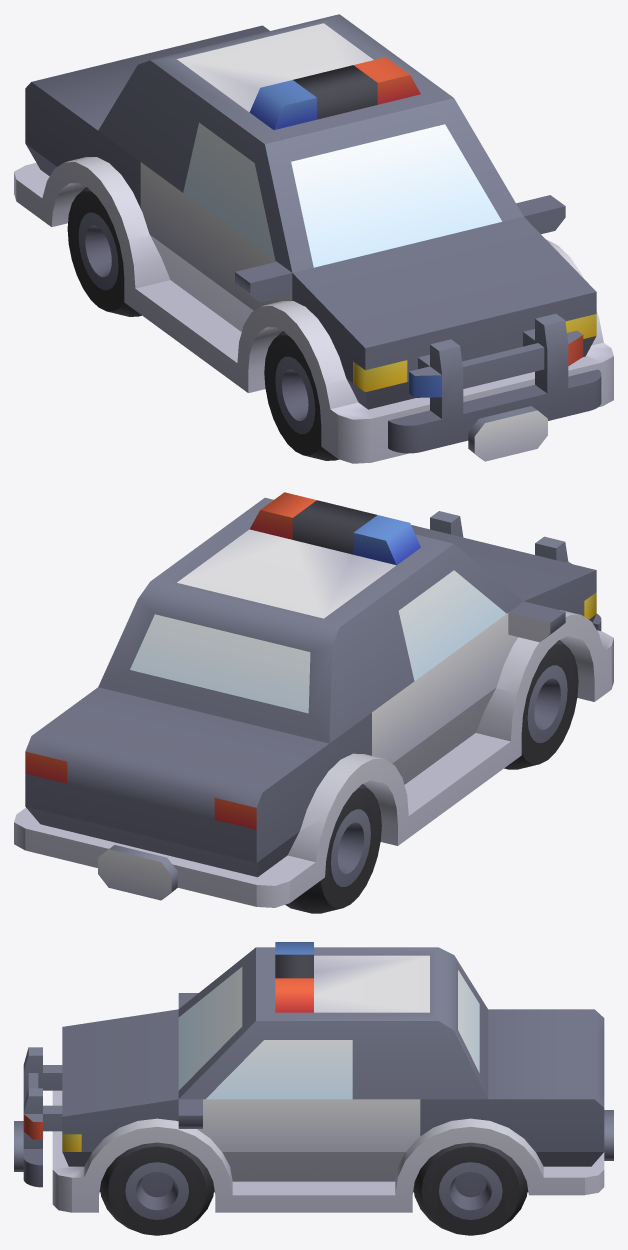
File: car-police.obj
3 views of the same model, one above another, from view 1: azimuth 30°, elevation 25°; view 2: azimuth 150°, elevation 25°; view 3: azimuth 270°, elevation 25° (orthographic). The views are drawn at different scales.
Parts seen in each view (by area): view 1: body, grill, wheel-front-right, wheel-back-right; view 2: body, wheel-back-right, wheel-front-right, grill; view 3: body, wheel-back-left, wheel-front-left, grill.
Boxes of the visible parts, x1,y1,x2,y2 form: body: [14, 14, 613, 463]; grill: [388, 313, 601, 461]; wheel-front-right: [264, 331, 339, 460]; wheel-back-right: [67, 187, 141, 316]; body: [14, 492, 613, 907]; wheel-back-right: [285, 784, 381, 913]; wheel-front-right: [504, 640, 578, 769]; grill: [430, 511, 601, 630]; body: [52, 942, 613, 1212]; wheel-back-left: [413, 1142, 527, 1235]; wheel-front-left: [100, 1142, 214, 1235]; grill: [14, 1047, 62, 1187].
Bounding box in the file's own units: 1.5 × 1.3 × 3.1.
